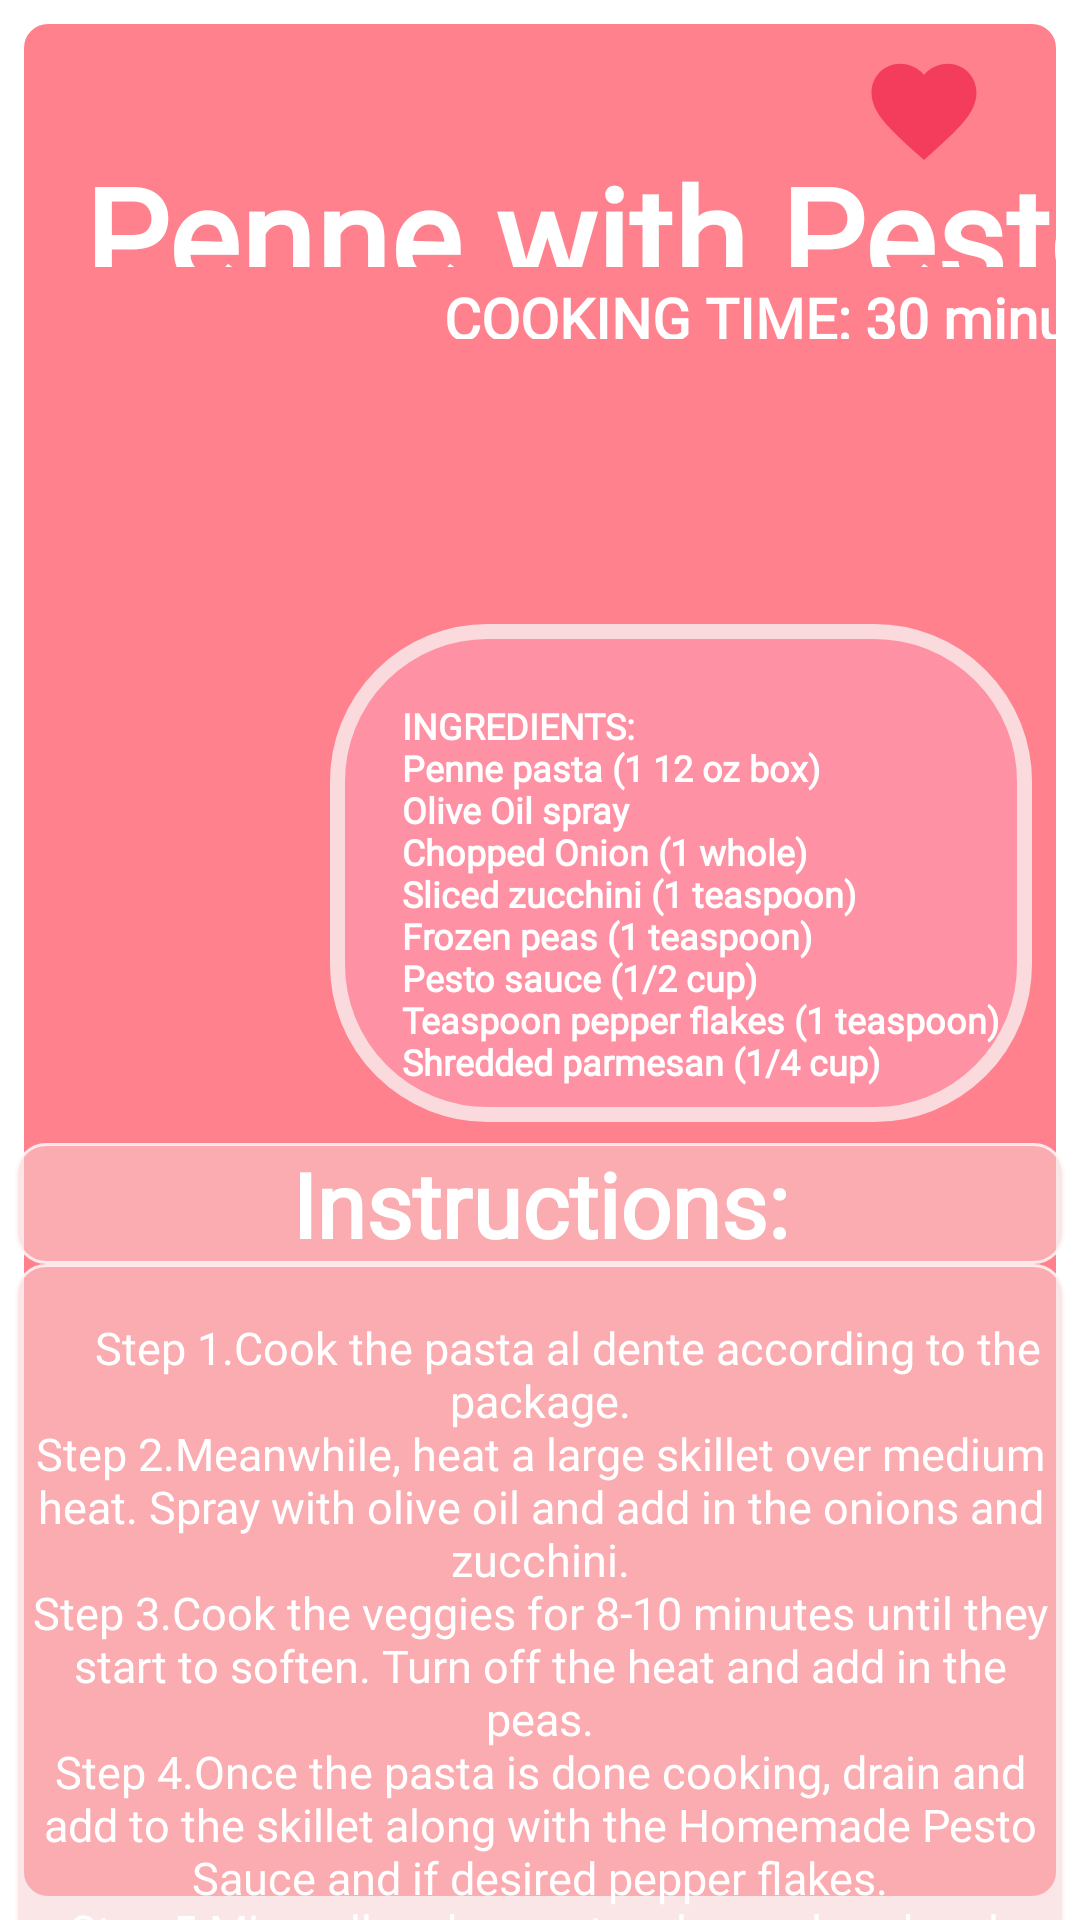

Named icons in this screenshot (1080px×1920px) and their centers, (x=x, y=y):
favorite: (x=924, y=112)
